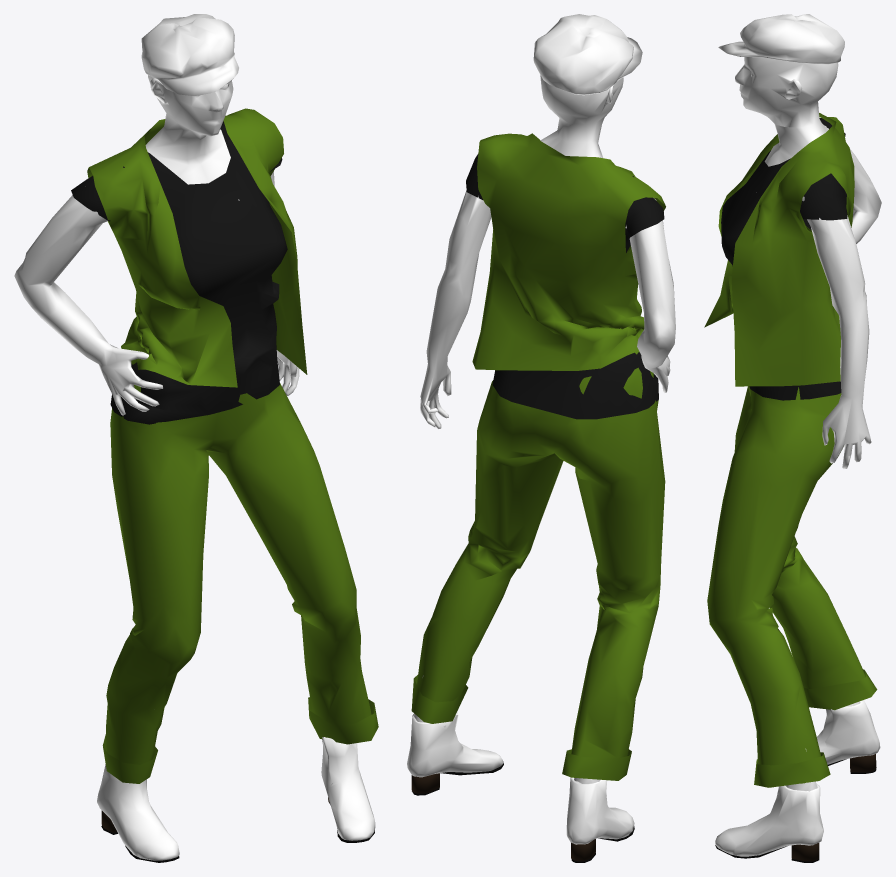
Rendered from Maneken_3.FBX.
3 views of the same model, side by side, from view 1: azimuth 30°, elevation 25°; view 2: azimuth 150°, elevation 25°; view 3: azimuth 270°, elevation 25° (orthographic). The views are drawn at different scales.
Visible parts, largest first — view 1: Object001; view 2: Object001; view 3: Object001.
Boxes of the visible parts, x1=… form: Object001: x1=14, y1=14, x2=378, y2=862; Object001: x1=407, y1=14, x2=675, y2=862; Object001: x1=704, y1=14, x2=881, y2=862.
Bounding box in the file's own units: 69.85 × 180 × 37.49.
